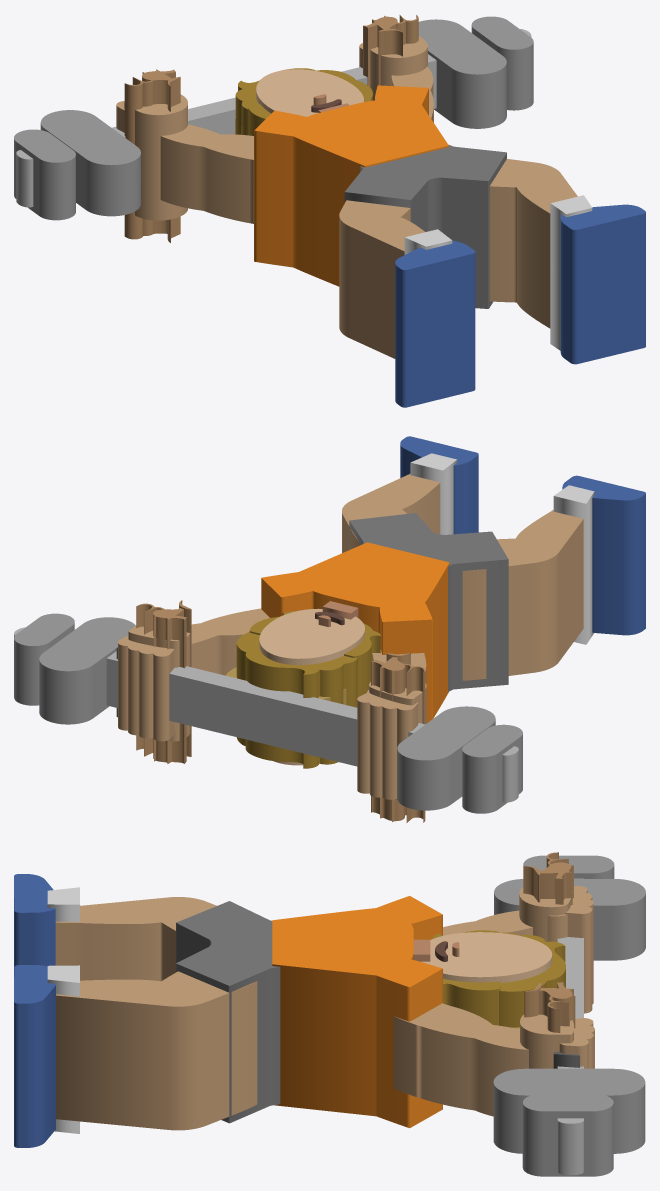
Rendered from emoji_u1f3cb_1f3fc.glb.
3 views of the same model, one above another, from view 1: azimuth 30°, elevation 25°; view 2: azimuth 150°, elevation 25°; view 3: azimuth 270°, elevation 25° (orthographic). The views are drawn at different scales.
Parts seen in each view (by area): view 1: emoji_u1f3cb_1f3fc; view 2: emoji_u1f3cb_1f3fc; view 3: emoji_u1f3cb_1f3fc.
Boxes of the visible parts, left/top/right/bottom form: emoji_u1f3cb_1f3fc: left=14, top=15, right=645, bottom=407; emoji_u1f3cb_1f3fc: left=14, top=436, right=645, bottom=822; emoji_u1f3cb_1f3fc: left=14, top=852, right=645, bottom=1176.
Size of the model in its own units: 0.0334 by 0.0098 by 0.0333.
